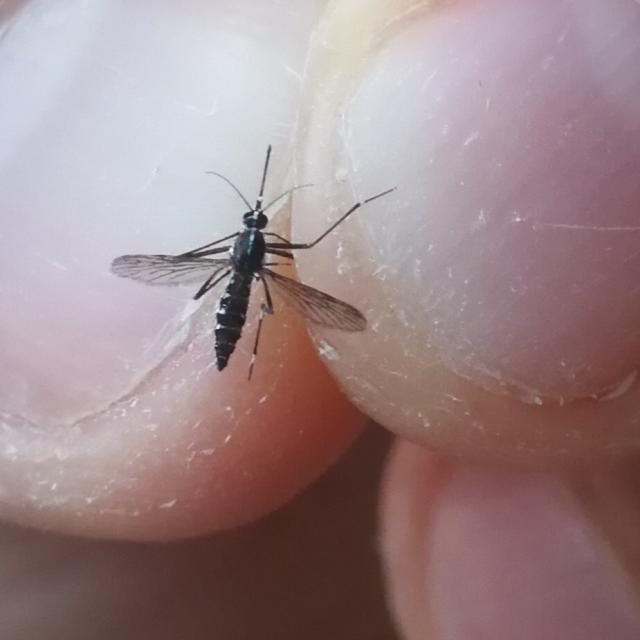albopictus: (117, 136, 396, 387)
